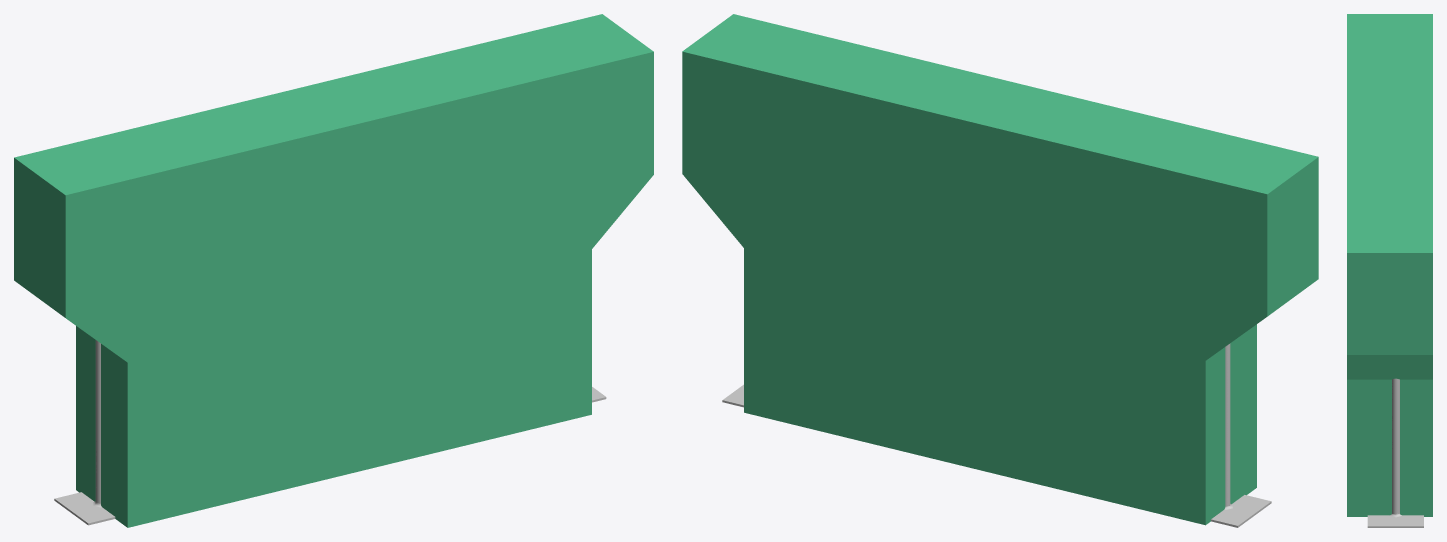
The model's file is race_arrowsign_1_L.dae.
3 renders of one model, left to right at view 1: azimuth 30°, elevation 25°; view 2: azimuth 150°, elevation 25°; view 3: azimuth 270°, elevation 25°, orthographic. The views are drawn at different scales.
Visible parts, largest first — view 1: Colmesh-1, ind_bld_a120, ind_bld_a650; view 2: Colmesh-1, ind_bld_a120; view 3: Colmesh-1, ind_bld_a120, ind_bld_a650.
Part boxes in pixels (box(x1,y1,x2,y2)): Colmesh-1: box(14, 14, 653, 527); ind_bld_a120: box(54, 340, 606, 525); ind_bld_a650: box(93, 340, 101, 507); Colmesh-1: box(682, 14, 1318, 525); ind_bld_a120: box(722, 344, 1271, 527); Colmesh-1: box(1347, 14, 1432, 516); ind_bld_a120: box(1367, 378, 1423, 527); ind_bld_a650: box(1389, 379, 1401, 517).
Size of the model in its own units: 3.01 by 0.4573 by 1.7.
